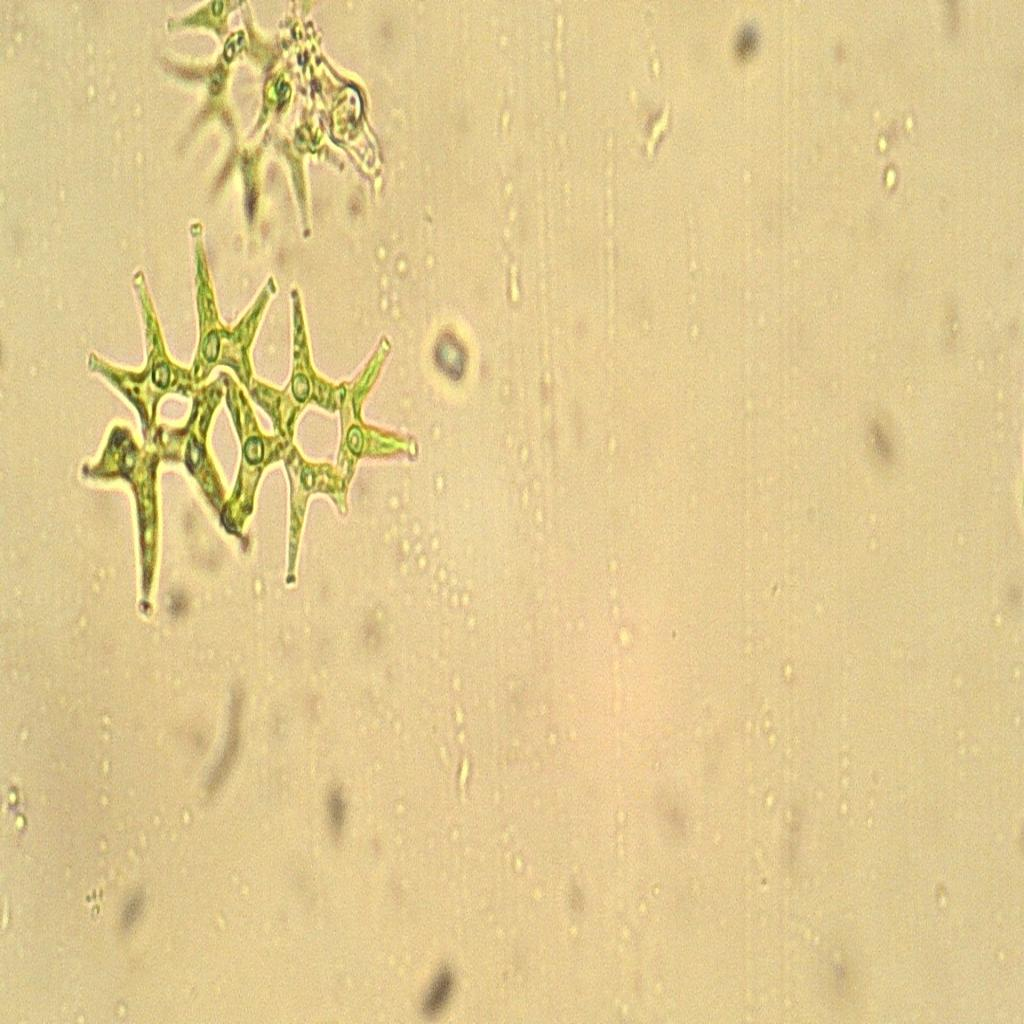Pediastrum_CFI: (69, 214, 433, 640)
